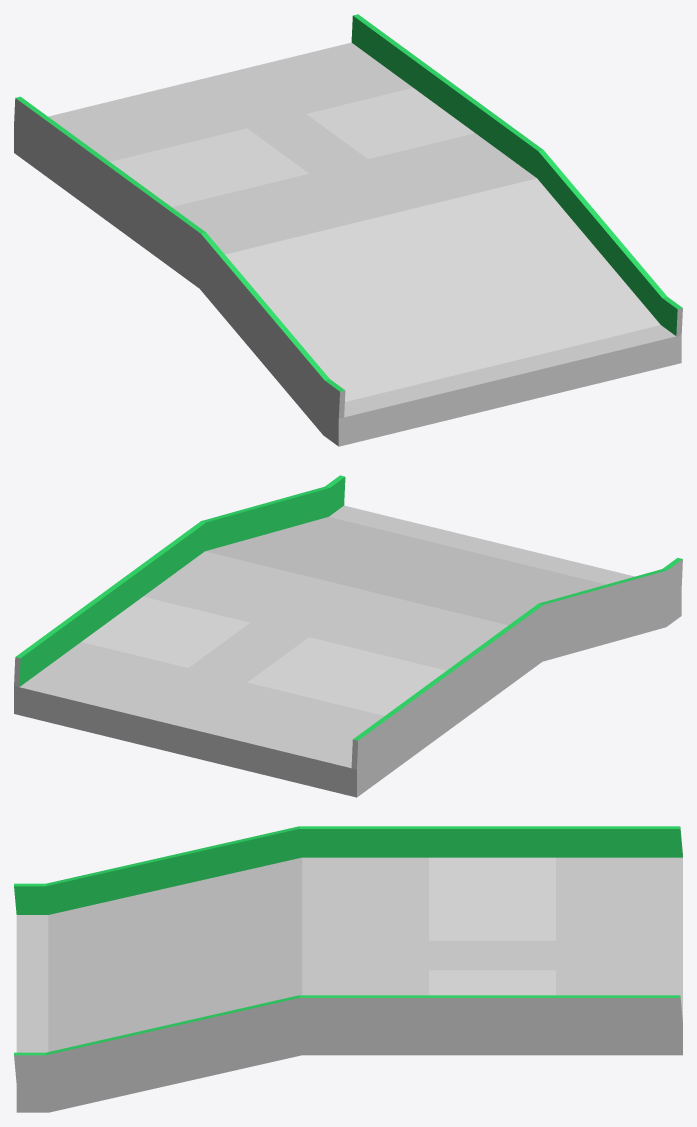
3 views of the same model, one above another, from view 1: azimuth 30°, elevation 25°; view 2: azimuth 150°, elevation 25°; view 3: azimuth 270°, elevation 25° (orthographic). The views are drawn at different scales.
Parts seen in each view (by area): view 1: Cube.008, Cube.014, Cube.011, Cube.013, Cube.012; view 2: Cube.008, Cube.014, Cube.013, Cube.012, Cube.011; view 3: Cube.008, Cube.014, Cube.013, Cube.011, Cube.012.
Boxes of the visible parts, x1=… form: Cube.008: x1=14, y1=14, x2=682, y2=446; Cube.014: x1=256, y1=160, x2=486, y2=305; Cube.011: x1=379, y1=279, x2=547, y2=378; Cube.013: x1=110, y1=128, x2=308, y2=206; Cube.012: x1=307, y1=88, x2=474, y2=159; Cube.008: x1=14, y1=475, x2=682, y2=797; Cube.014: x1=256, y1=561, x2=485, y2=650; Cube.013: x1=247, y1=637, x2=446, y2=715; Cube.012: x1=81, y1=596, x2=249, y2=667; Cube.011: x1=380, y1=544, x2=547, y2=587; Cube.008: x1=14, y1=826, x2=682, y2=1112; Cube.014: x1=175, y1=914, x2=428, y2=995; Cube.013: x1=429, y1=857, x2=555, y2=940; Cube.011: x1=48, y1=942, x2=175, y2=1024; Cube.012: x1=429, y1=970, x2=555, y2=995.
Bounding box in the file's own units: 12.8 × 4 × 21.08.
